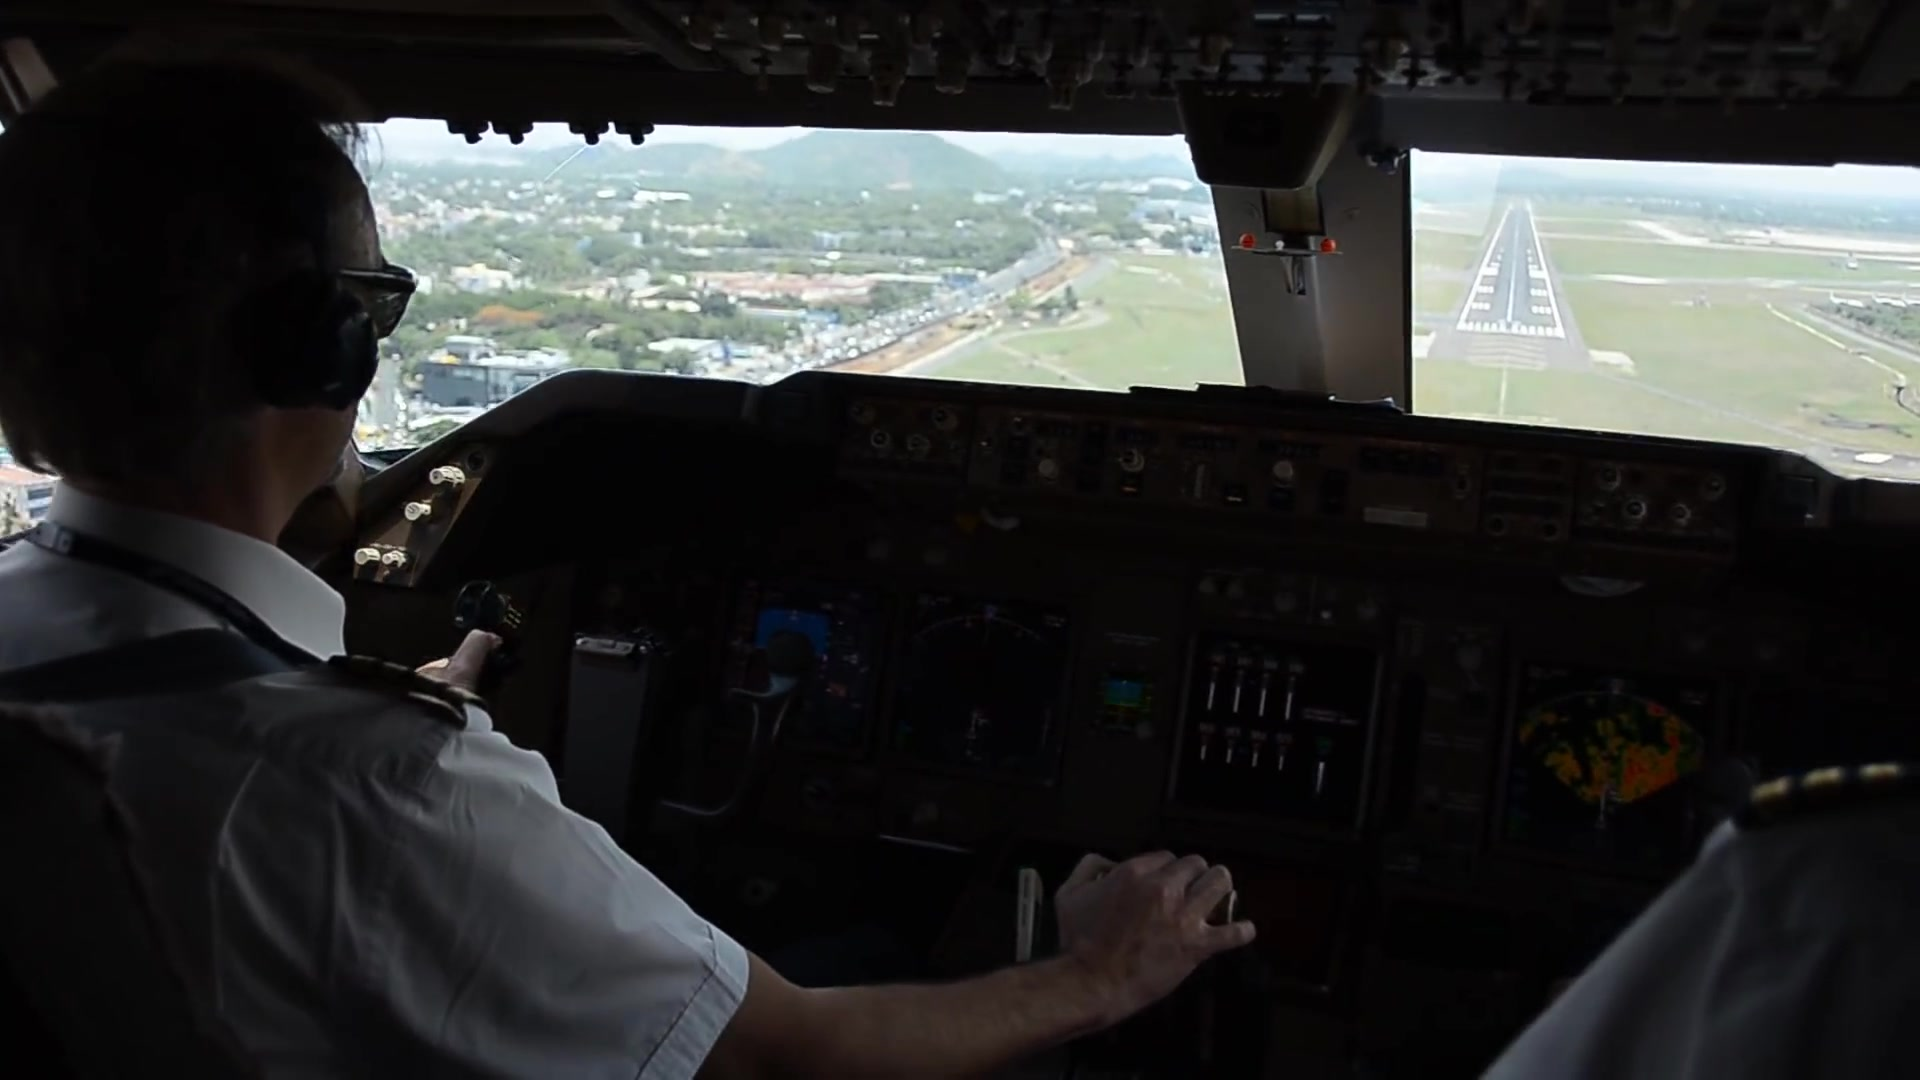entrance: (1465, 318, 1555, 336)
runway: (1425, 196, 1586, 369)
